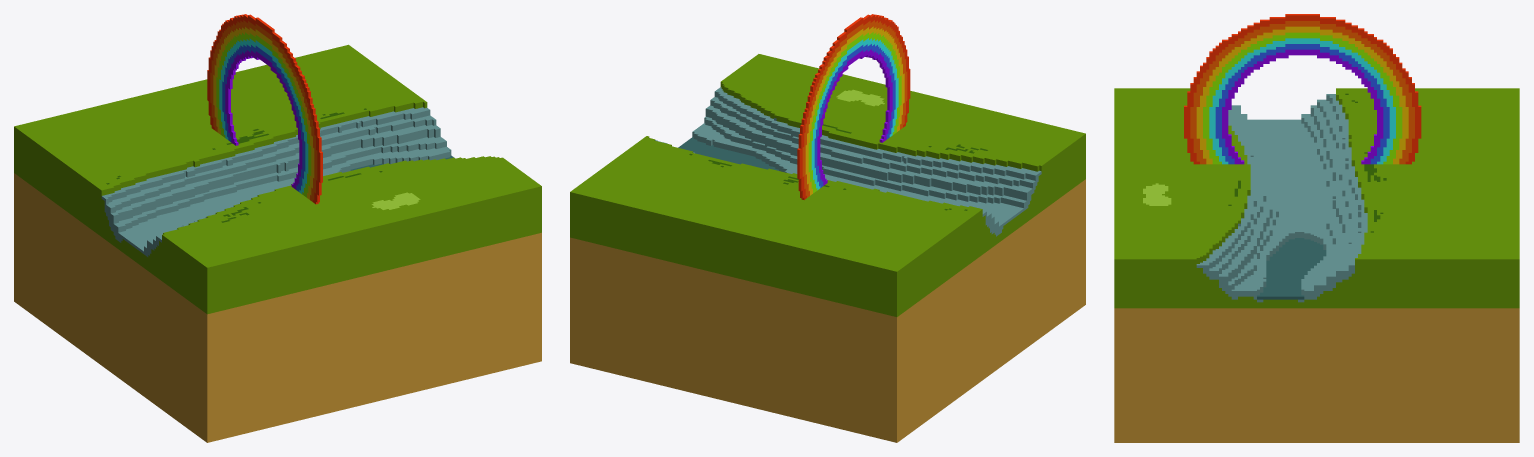
The picture shows the model from 3 angles, left to right: view 1: azimuth 30°, elevation 25°; view 2: azimuth 150°, elevation 25°; view 3: azimuth 270°, elevation 25°; orthographic projection. The views are drawn at different scales.
Parts seen in each view (by area): view 1: 7I; view 2: 7I; view 3: 7I.
Boxes of the visible parts, box(x1,y1,x2,y2) form: 7I: box(14, 14, 541, 442); 7I: box(570, 14, 1085, 442); 7I: box(1114, 14, 1519, 442).
Size of the model in its own units: 12.8 by 11.6 by 12.8.
Materials: 1 (1 with a texture image).
